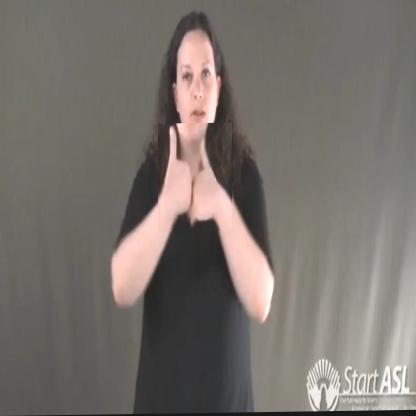HowAreYou: (158, 123, 232, 232)
